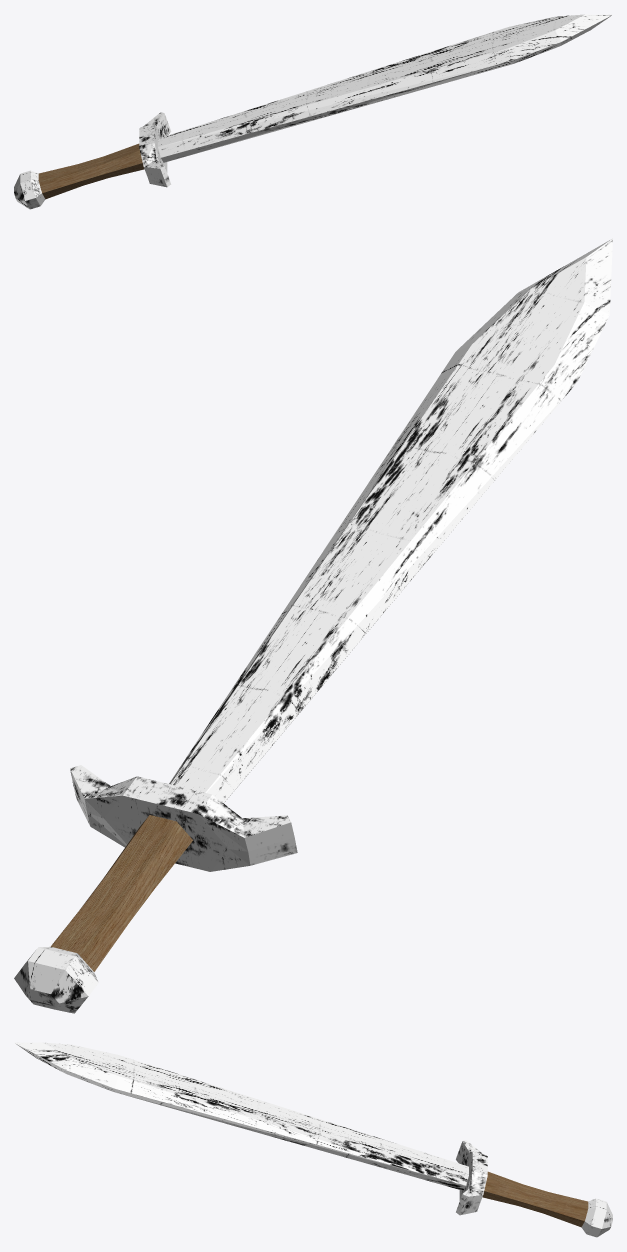
File: swordFinished.fbx
3 views of the same model, one above another, from view 1: azimuth 90°, elevation 25°; view 2: azimuth 150°, elevation 25°; view 3: azimuth 270°, elevation 25° (orthographic). The views are drawn at different scales.
Visible parts, largest first — view 1: pPlane1; view 2: pPlane1; view 3: pPlane1.
Part boxes in pixels (x1,y1,x2,y2): pPlane1: (14, 14, 612, 209); pPlane1: (14, 238, 612, 1013); pPlane1: (14, 1042, 612, 1237).
Size of the model in its own units: 1.57 by 2.46 by 7.03.
Materials: 3 (2 with a texture image).
